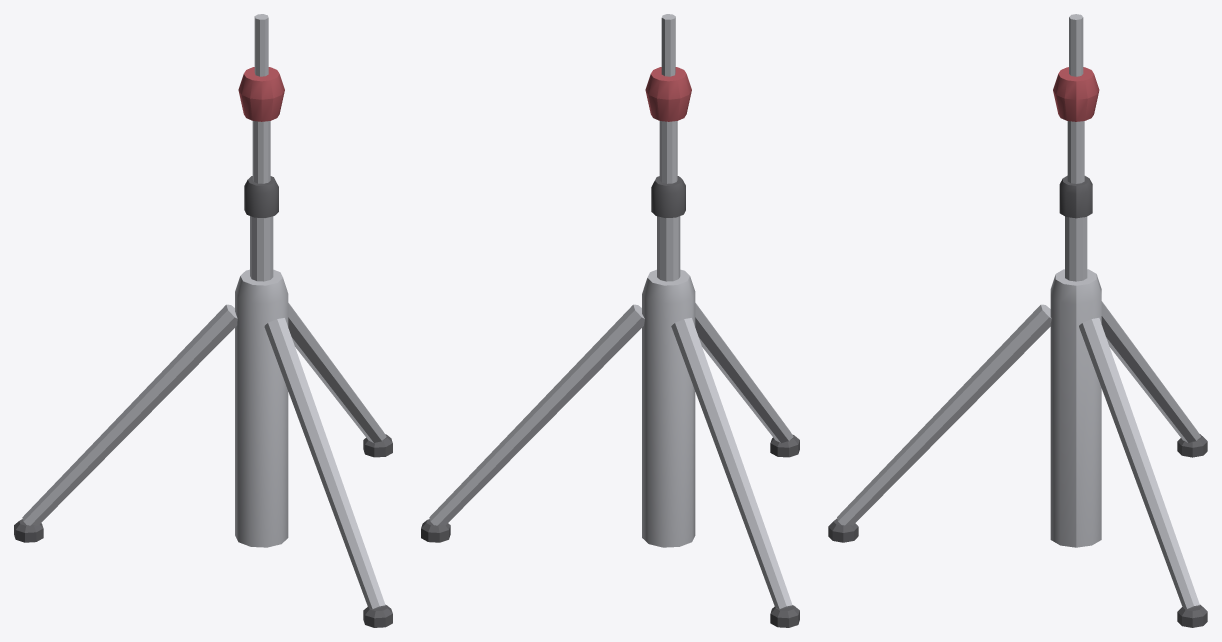
File: orchestra-and-band-instruments-trumpet-stand-7eebae96__39320.glb
3 renders of one model, left to right at view 1: azimuth 30°, elevation 25°; view 2: azimuth 150°, elevation 25°; view 3: azimuth 270°, elevation 25°, orthographic.
Visible parts, largest first — view 1: trumpet-stand; view 2: trumpet-stand; view 3: trumpet-stand.
Boxes of the visible parts, x1,y1,x2,y2 form: trumpet-stand: (14,14,392,627); trumpet-stand: (421,14,799,627); trumpet-stand: (828,14,1207,627).
Bounding box in the file's own units: 0.4843 × 0.64 × 0.424.
